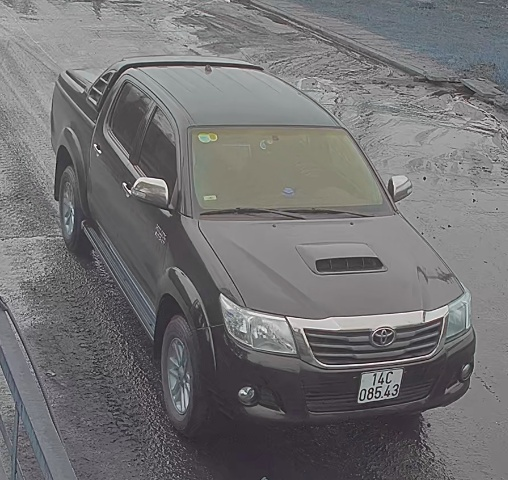vehicle plate: (355, 366, 406, 405)
